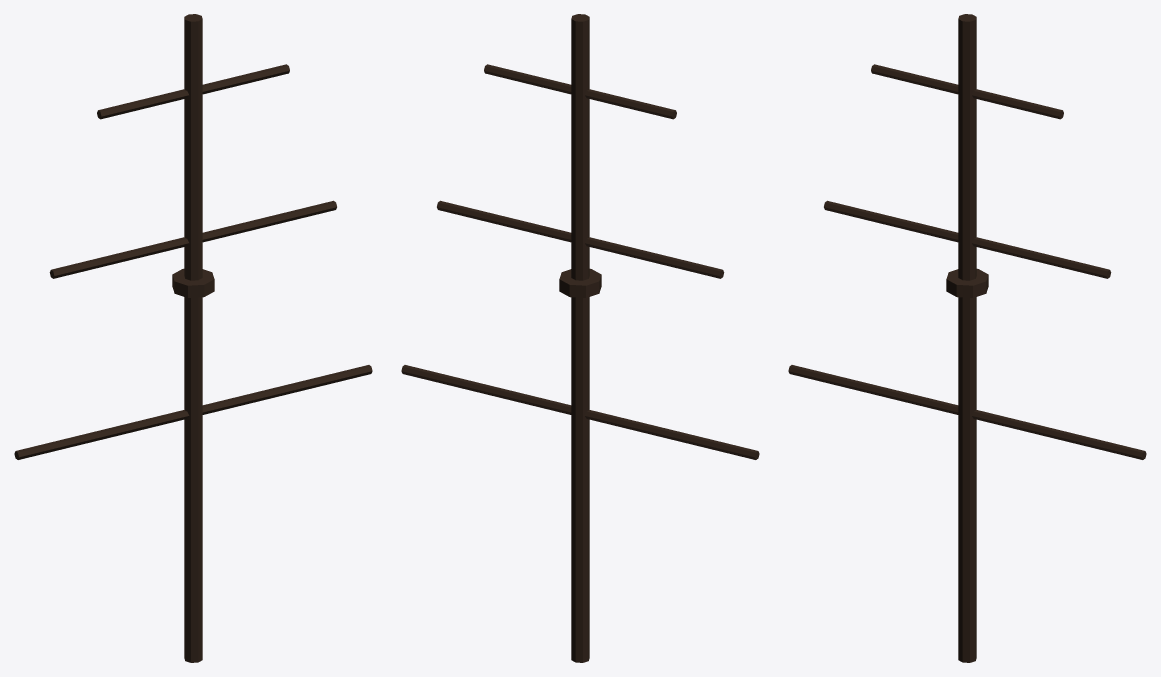
The model's file is ship_mast.fbx.
3 views of the same model, side by side, from view 1: azimuth 30°, elevation 25°; view 2: azimuth 150°, elevation 25°; view 3: azimuth 330°, elevation 25° (orthographic).
Visible parts, largest first — view 1: ship_mast; view 2: ship_mast; view 3: ship_mast.
Part boxes in pixels (x1,y1,x2,y2): ship_mast: (14,14,372,662); ship_mast: (401,14,759,662); ship_mast: (788,14,1146,662).
Size of the model in its own units: 3000 by 5200 by 320.
